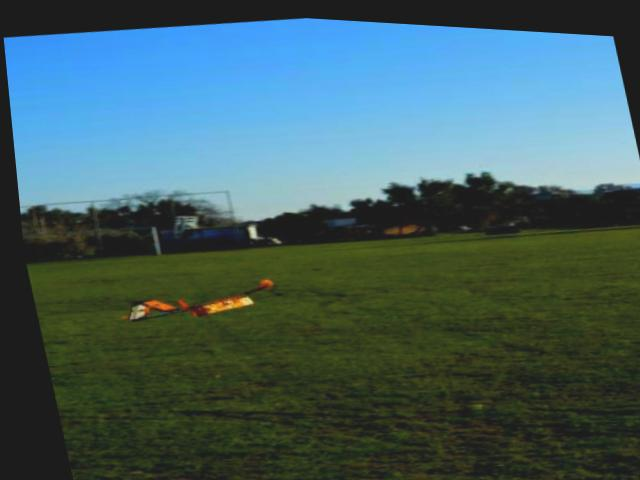iha: (111, 263, 278, 327)
